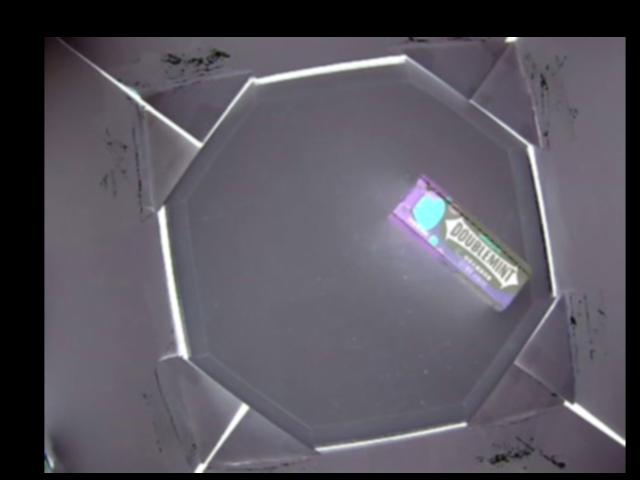Bottle: (390, 175, 534, 310)
